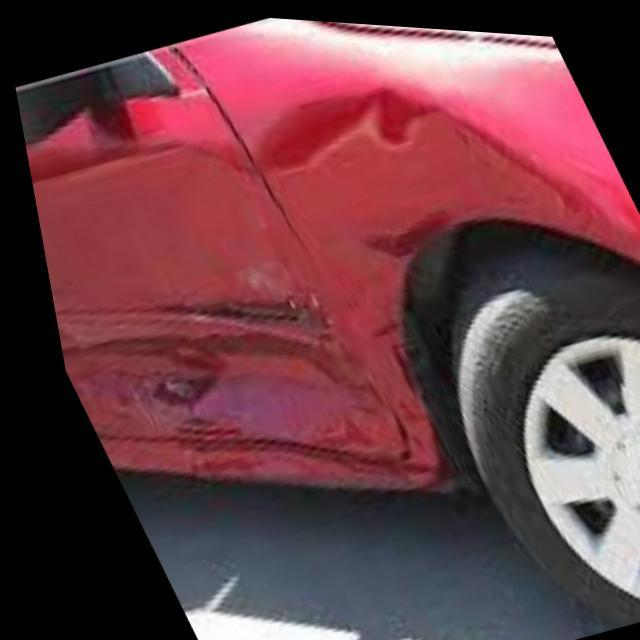dent: (42, 90, 613, 477)
